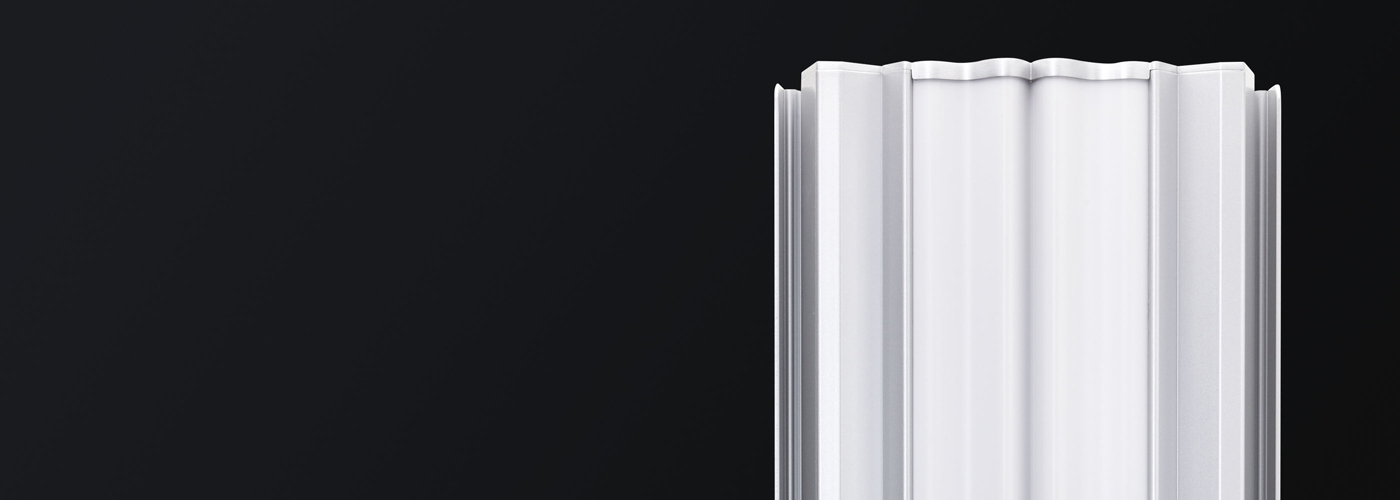sa: (761, 48, 1288, 500)
